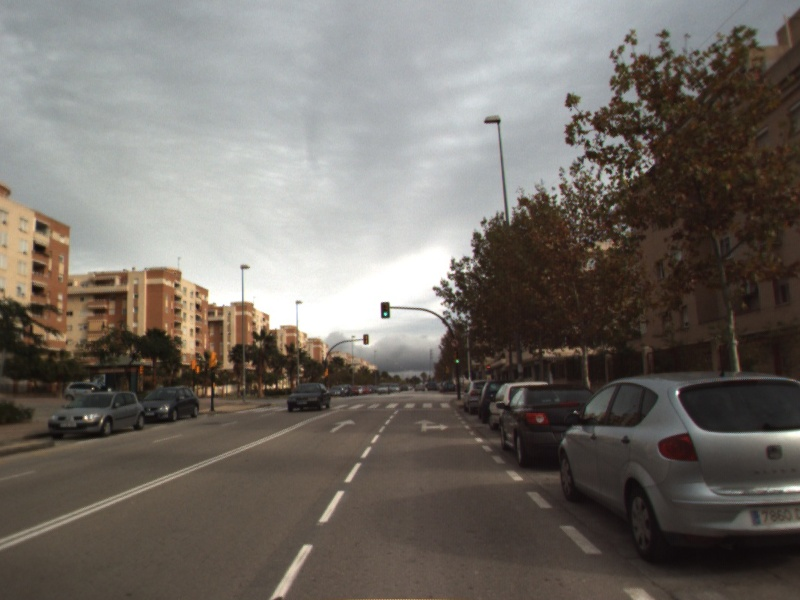STRAIGHT: (328, 417, 358, 435)
STRAIGHT_RIGHT: (413, 417, 451, 434)
